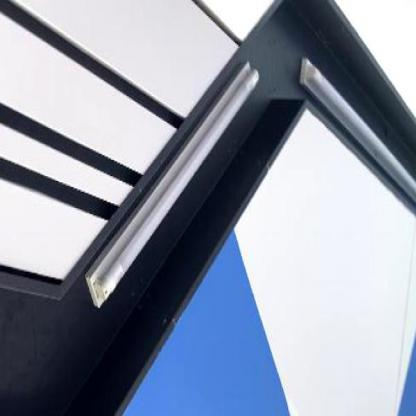light_off: (78, 38, 267, 312), (292, 33, 415, 282)
